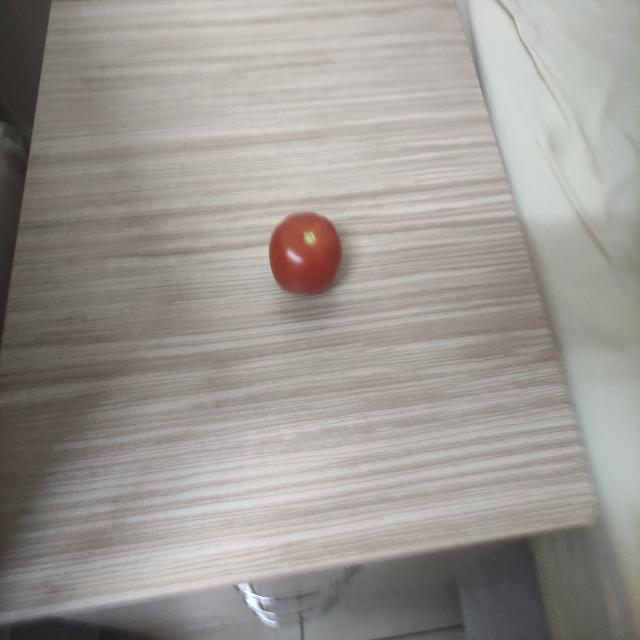kirmizi: (267, 198, 352, 300)
